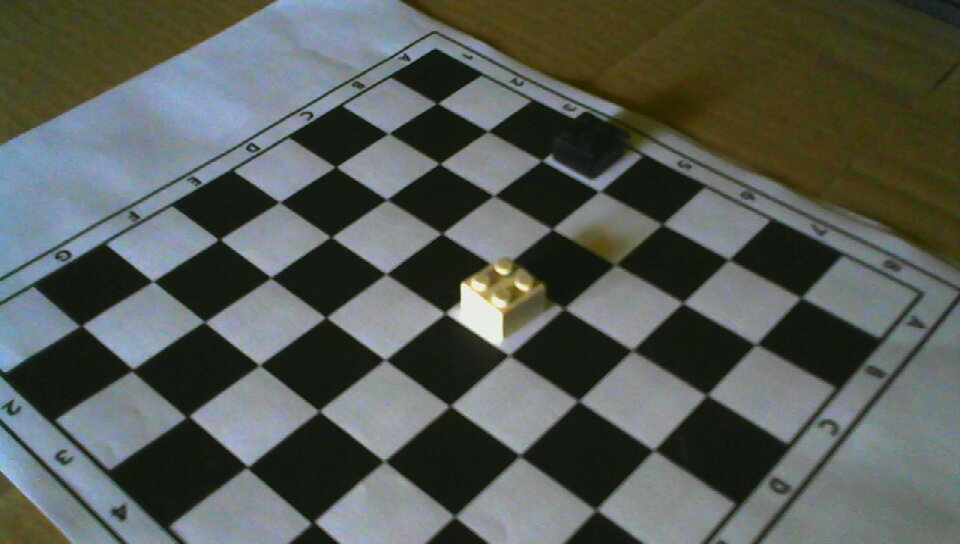bp: (552, 110, 628, 181)
wp: (459, 256, 546, 342)
